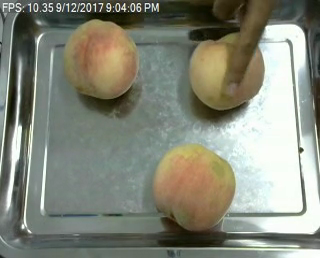Peach: (154, 142, 237, 231), (65, 19, 139, 100), (191, 32, 265, 109)
